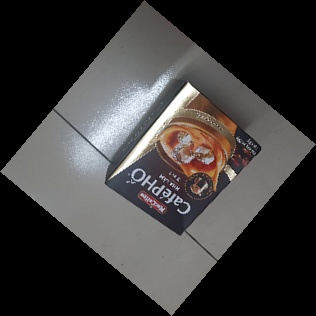CF pho: (105, 79, 263, 238)
